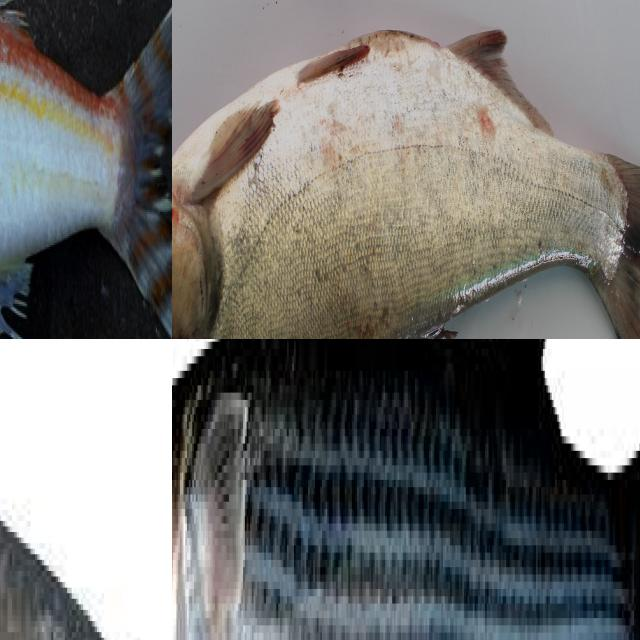fish: (172, 23, 640, 339), (172, 339, 640, 640), (0, 0, 172, 339), (0, 339, 172, 640)
